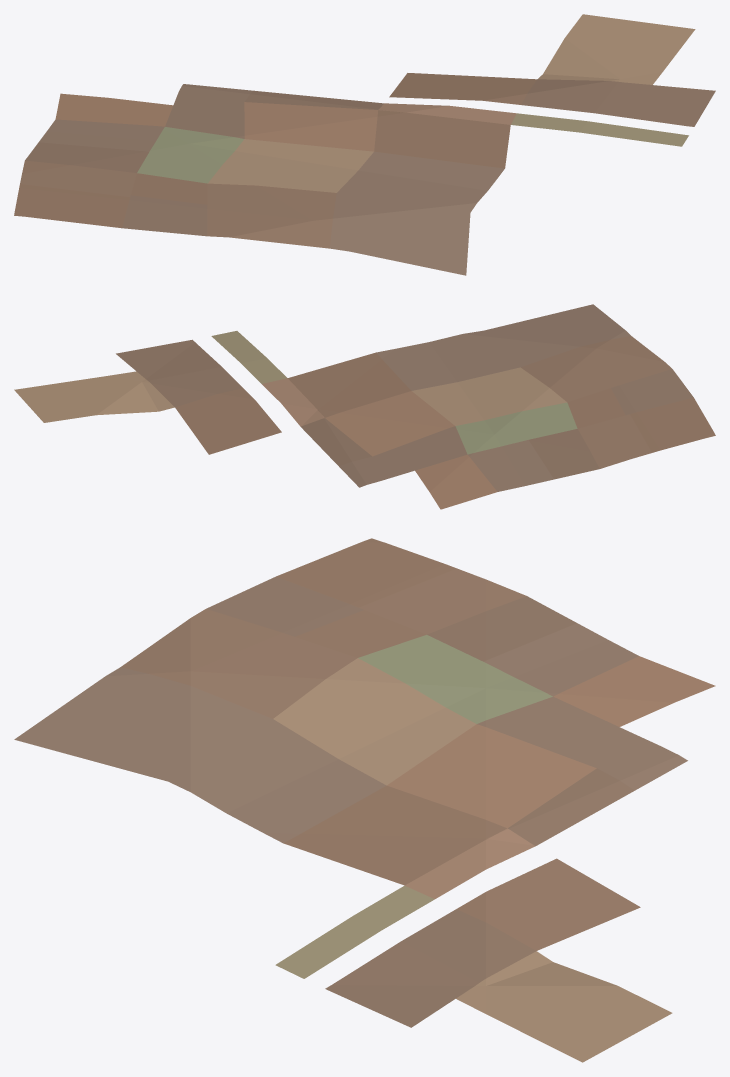
File: farm_24_26_soil.glb
3 renders of one model, top to bottom at view 1: azimuth 30°, elevation 25°; view 2: azimuth 150°, elevation 25°; view 3: azimuth 270°, elevation 25°, orthographic. The views are drawn at different scales.
Visible parts, largest first — view 1: geometry_0; view 2: geometry_0; view 3: geometry_0.
Part boxes in pixels (<box>): geometry_0: <box>14,14,715,275</box>; geometry_0: <box>14,304,715,509</box>; geometry_0: <box>14,538,715,1062</box>.
Bounding box in the file's own units: 286 × 23.82 × 190.
